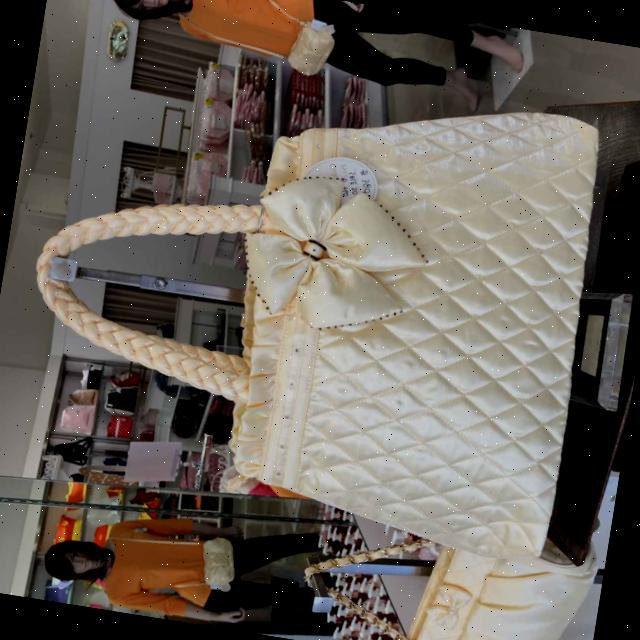Handbag: (177, 64, 639, 552)
